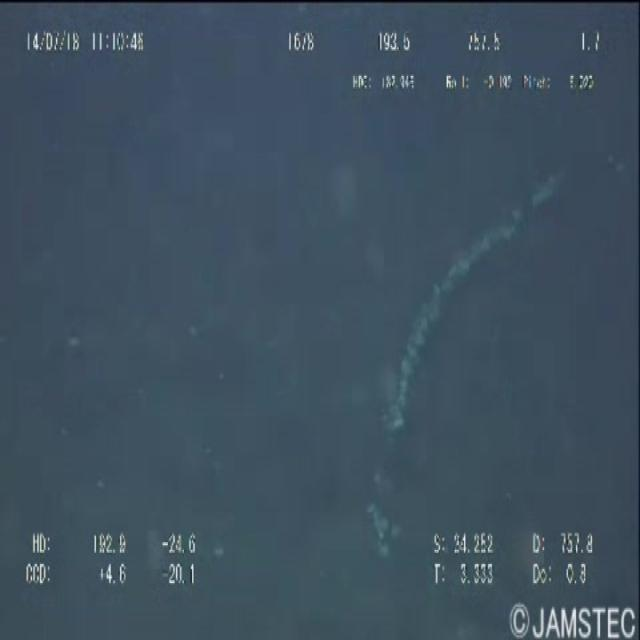Wood: (367, 142, 581, 567)
